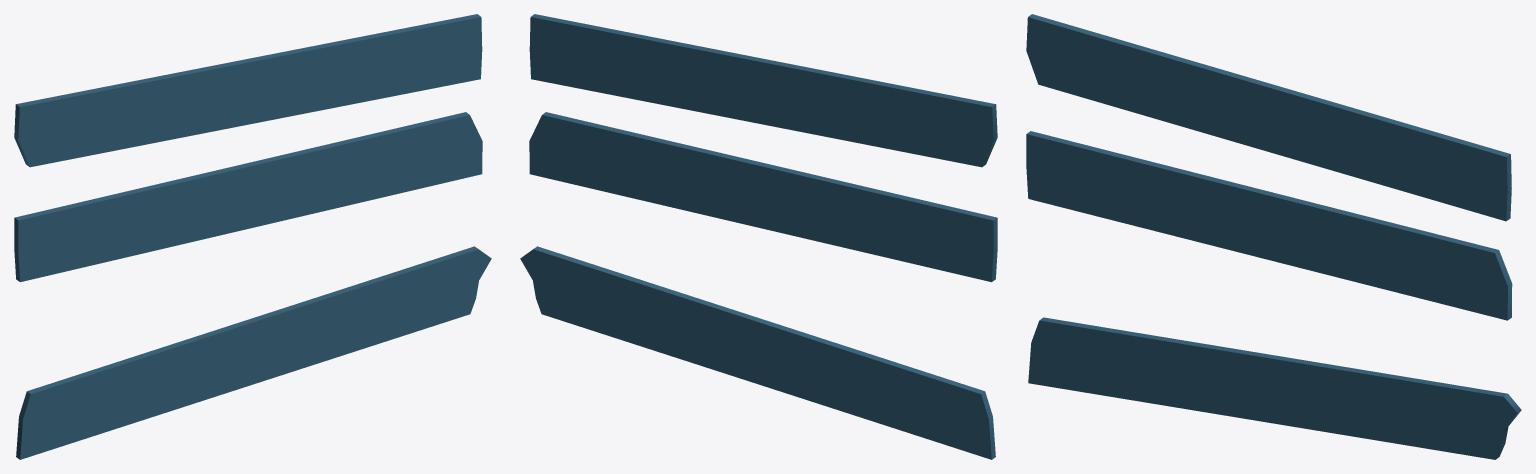
File: Boards_Blocker_02.fbx
3 views of the same model, side by side, from view 1: azimuth 30°, elevation 25°; view 2: azimuth 150°, elevation 25°; view 3: azimuth 330°, elevation 25° (orthographic). The views are drawn at different scales.
Parts seen in each view (by area): view 1: Boards_Blocker_02; view 2: Boards_Blocker_02; view 3: Boards_Blocker_02.
Boxes of the visible parts, x1,y1,x2,y2 form: Boards_Blocker_02: (14,14,491,459); Boards_Blocker_02: (520,14,997,459); Boards_Blocker_02: (1026,14,1521,459).
Bounding box in the file's own units: 187 × 133 × 2.78.
